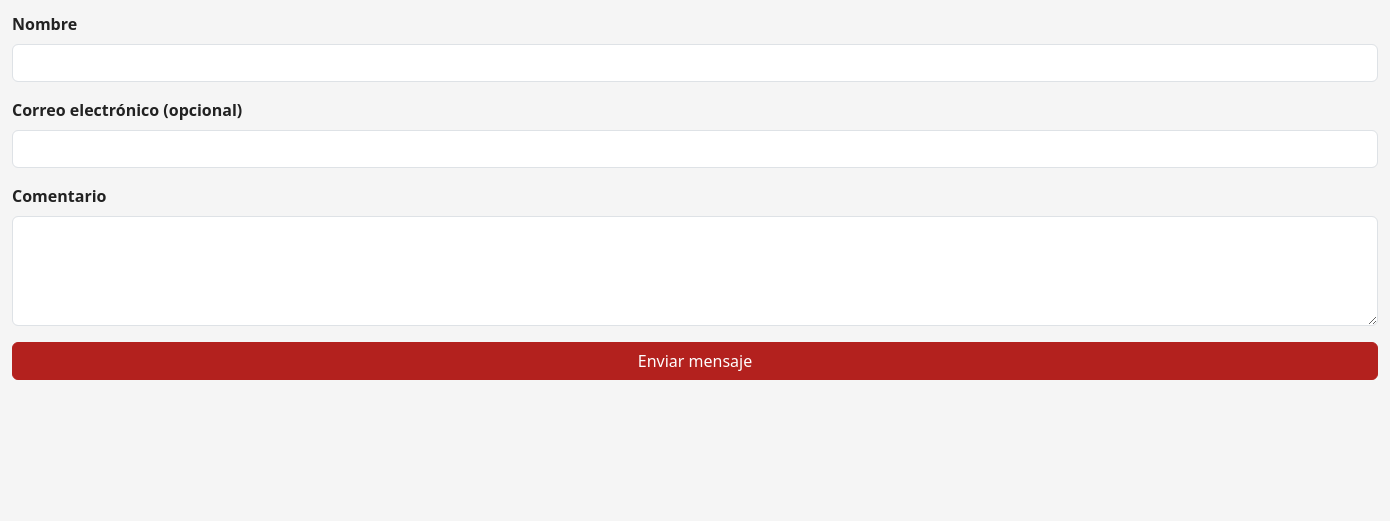
Test: FormContacto › 27. muestra los errores cuando faltan datos obligatorios
What coordinates should you click on to do the following:
click the button "Enviar mensaje"
I would click on:
 (695, 361)
Its box is [12,342,1378,380].
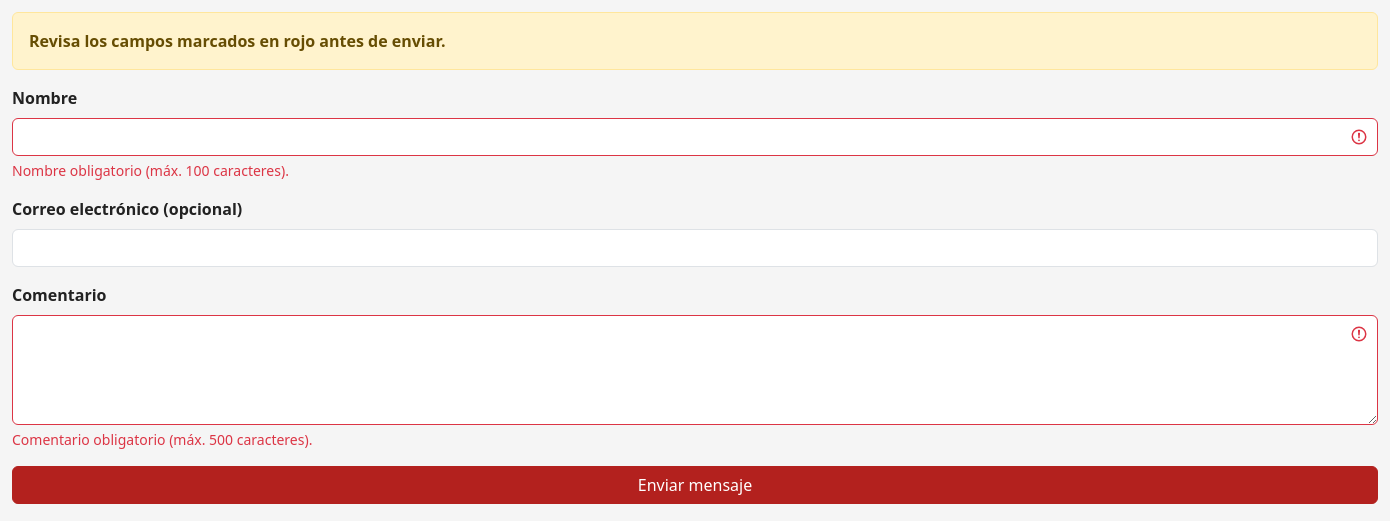
Expected: the text "Revisa los campos marcados en rojo antes de enviar." is shown, [29,30,446,52]
Expected: the text "Nombre obligatorio (máx. 100 caracteres)." is shown, [12,161,289,180]
